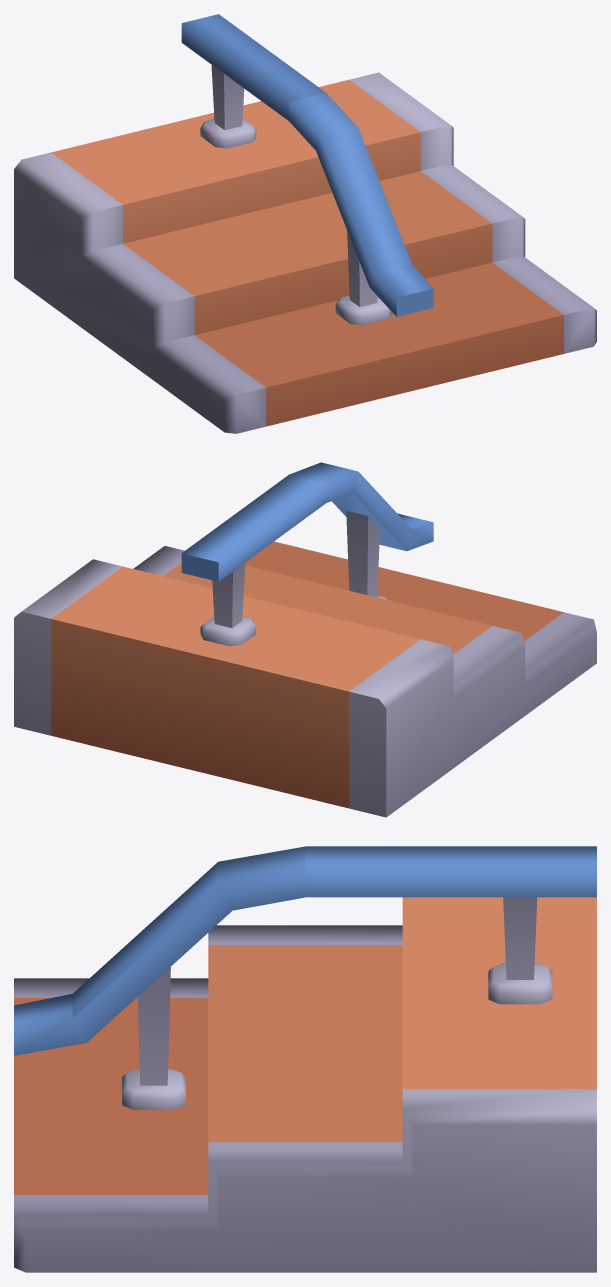
The model's file is steps-rail.fbx.
The picture shows the model from 3 angles, top to bottom: view 1: azimuth 30°, elevation 25°; view 2: azimuth 150°, elevation 25°; view 3: azimuth 270°, elevation 25°; orthographic projection. The views are drawn at different scales.
Parts seen in each view (by area): view 1: steps-rail; view 2: steps-rail; view 3: steps-rail.
Boxes of the visible parts, bbox=[...] form: steps-rail: bbox=[14, 14, 596, 433]; steps-rail: bbox=[14, 462, 596, 817]; steps-rail: bbox=[14, 846, 596, 1272].
Size of the model in its own units: 100 by 55 by 100.
Materials: 1 (1 with a texture image).
